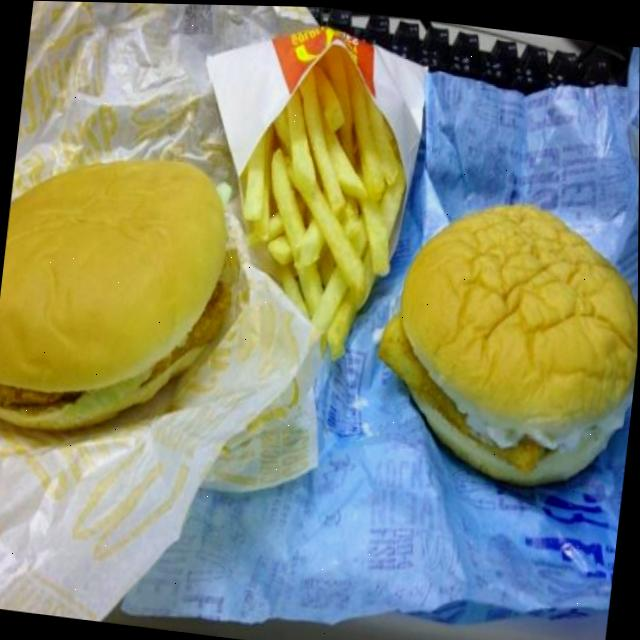汉堡快餐: (364, 169, 639, 476), (0, 137, 253, 444)
炸货点心: (166, 3, 448, 371)
